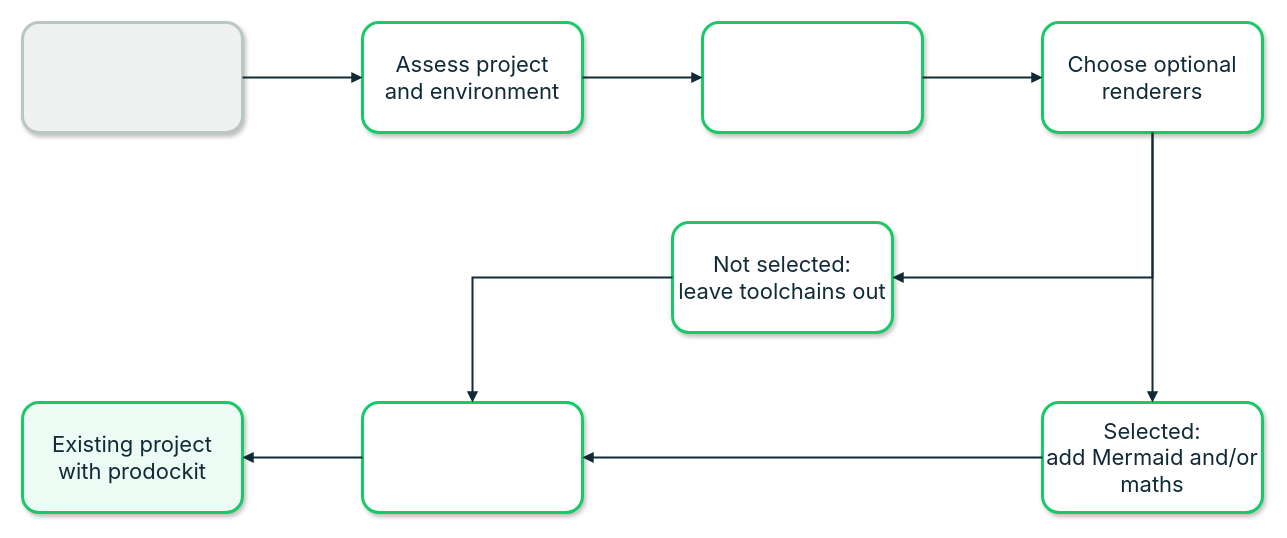
The diagram is 1287 pixels wide and 538 high, and some of its shapes have lost their labels. Here are the shapes that lost their labels. From the top down, the centre of each, then its label:
(x=133, y=78): Existing documentation project
(x=813, y=78): Add standard authoring components
(x=473, y=458): Build and review local changes
